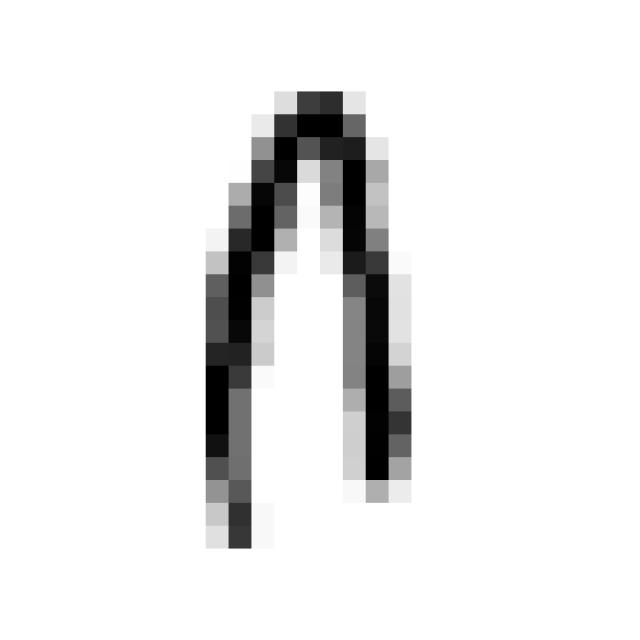8 -eight-: (169, 78, 435, 565)
